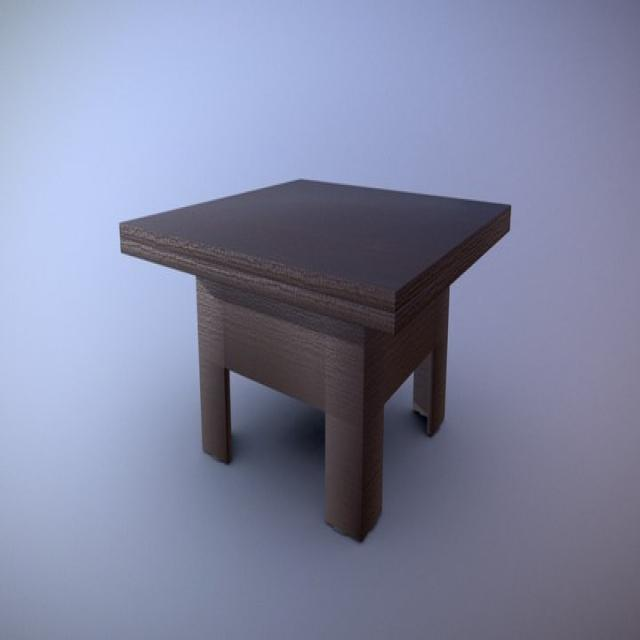table: (117, 172, 513, 538)
